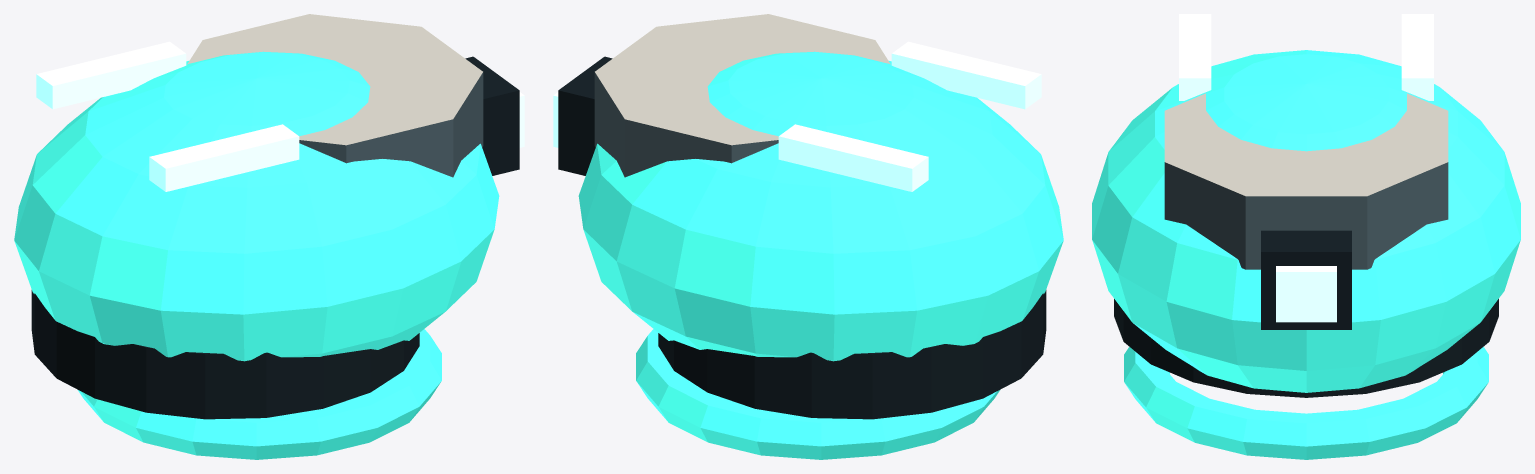
The model's file is drone-teal.glb.
3 renders of one model, left to right at view 1: azimuth 30°, elevation 25°; view 2: azimuth 150°, elevation 25°; view 3: azimuth 270°, elevation 25°, orthographic.
Parts seen in each view (by area): view 1: drone-teal; view 2: drone-teal; view 3: drone-teal.
Boxes of the visible parts, x1,y1,x2,y2 form: drone-teal: [14, 14, 524, 459]; drone-teal: [553, 14, 1063, 459]; drone-teal: [1092, 14, 1520, 459].
Bounding box in the file's own units: 0.529 × 0.3299 × 0.4235.
